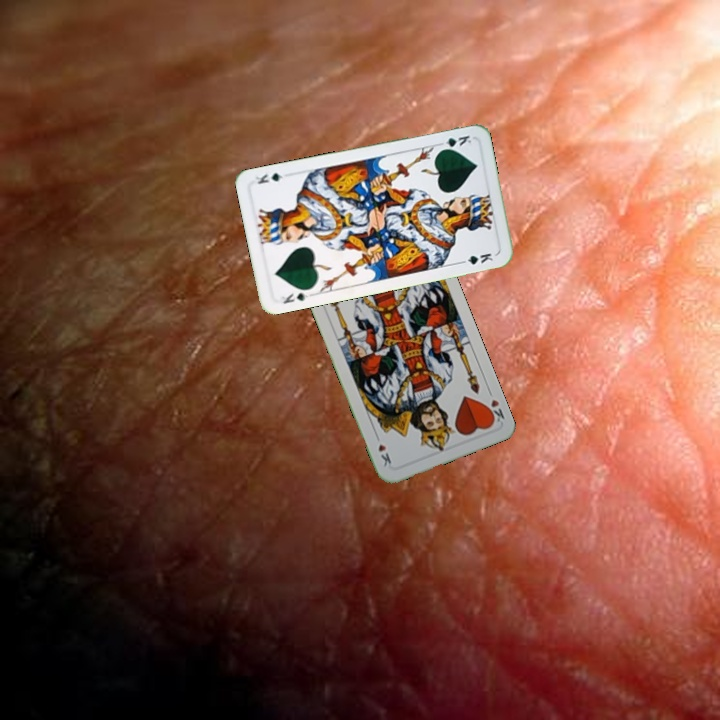GK: (434, 131, 474, 153), (277, 289, 314, 306)
HK: (482, 385, 507, 427)
